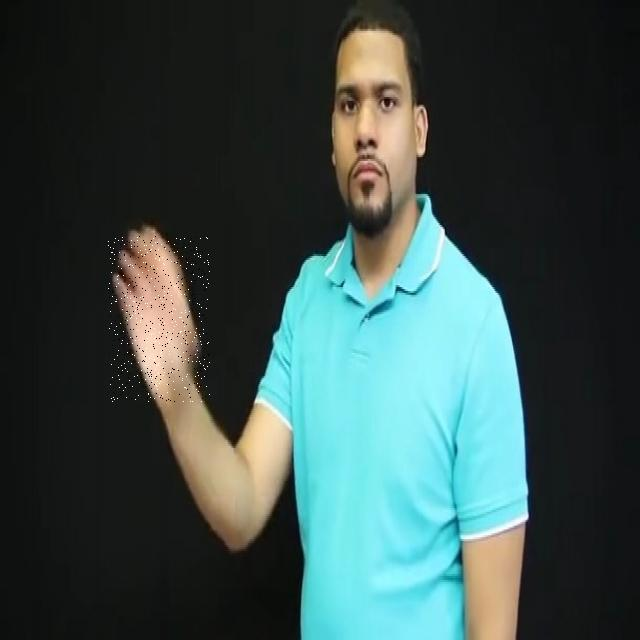pepper: (108, 236, 210, 402)
